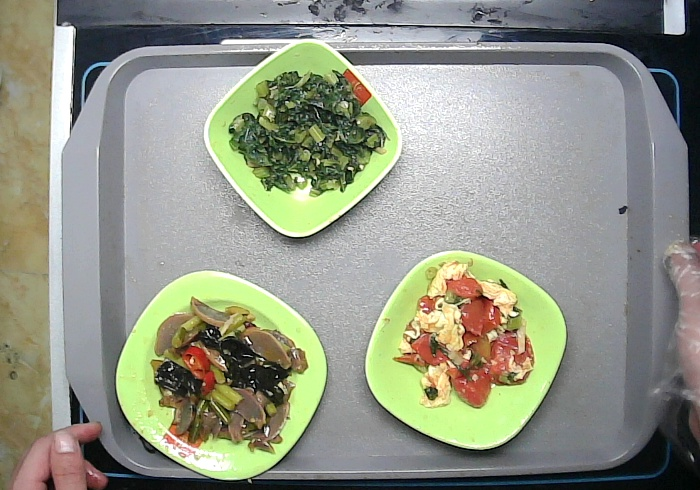SHKJ-Lv_Se_Cai_Die: (359, 248, 569, 455)
SHKJ-Lv_Se_Si_Fang_Cai_Die: (112, 266, 330, 486)
SHKJ-Lv_Se_Xiao_Fang_Die: (200, 37, 403, 243)
